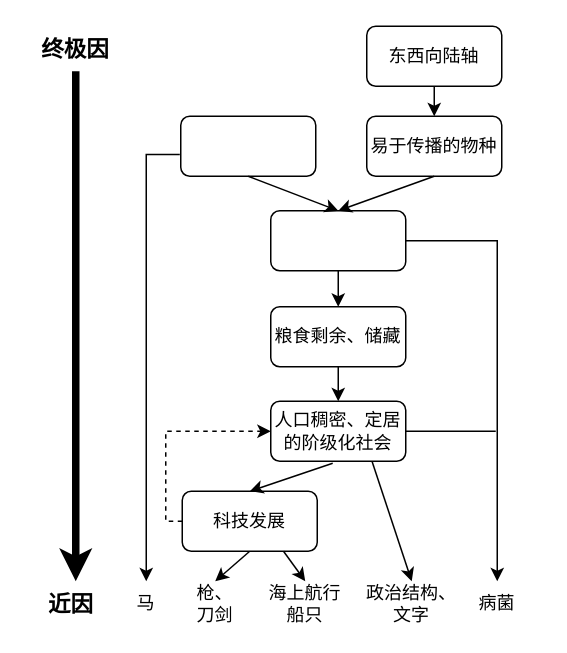
This 567x653 diagram has some shape labels left out. Here are the shapes that lost their labels. From the top down, the centre of each, then its label:
At pixel 247 145: "多种可供驯养 的野生物种".
At pixel 337 240: "许多作物及家畜".
